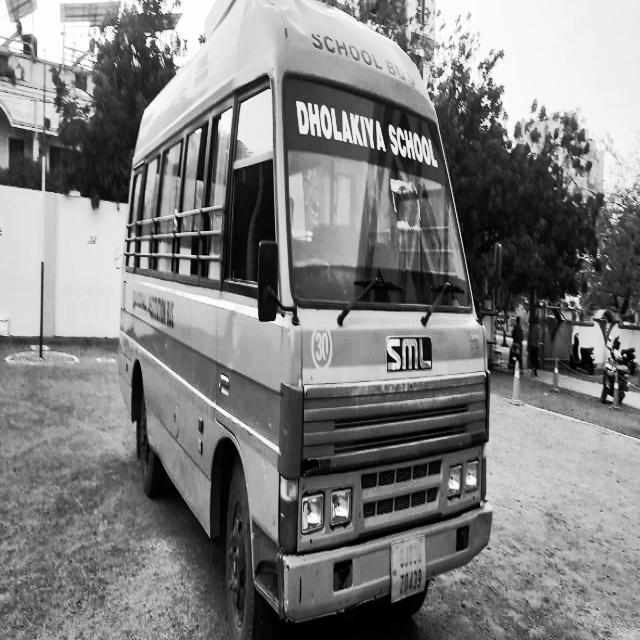Bus: (115, 8, 518, 635)
